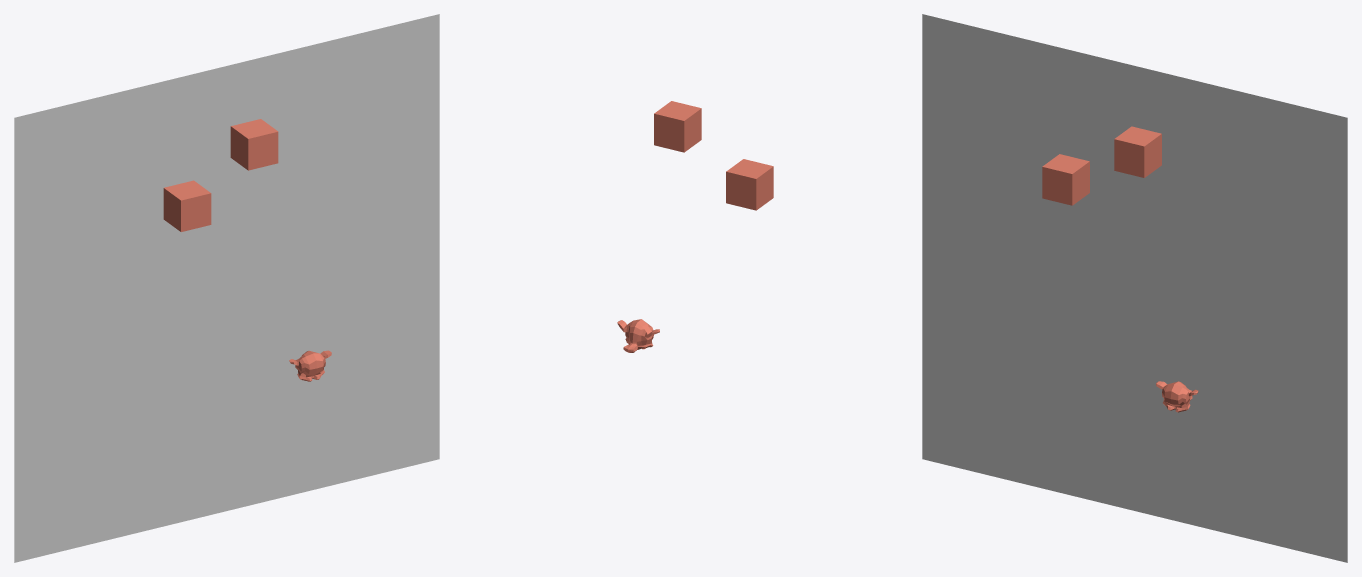
3 views of the same model, side by side, from view 1: azimuth 30°, elevation 25°; view 2: azimuth 150°, elevation 25°; view 3: azimuth 330°, elevation 25° (orthographic).
Visible parts, largest first — view 1: Plane, Cube, Cube.001, Suzanne; view 2: Cube.001, Cube, Suzanne; view 3: Plane, Cube.001, Cube, Suzanne.
Part boxes in pixels (<box>): Plane: <box>14,14,439,562</box>; Cube: <box>163,180,211,231</box>; Cube.001: <box>230,119,278,170</box>; Suzanne: <box>289,350,331,381</box>; Cube.001: <box>654,101,701,152</box>; Cube: <box>726,159,773,210</box>; Suzanne: <box>617,319,659,352</box>; Plane: <box>922,14,1347,562</box>; Cube.001: <box>1114,126,1161,177</box>; Cube: <box>1042,154,1089,205</box>; Suzanne: <box>1156,381,1198,412</box>.
Size of the model in its own units: 28.14 by 28.14 by 3.12.
